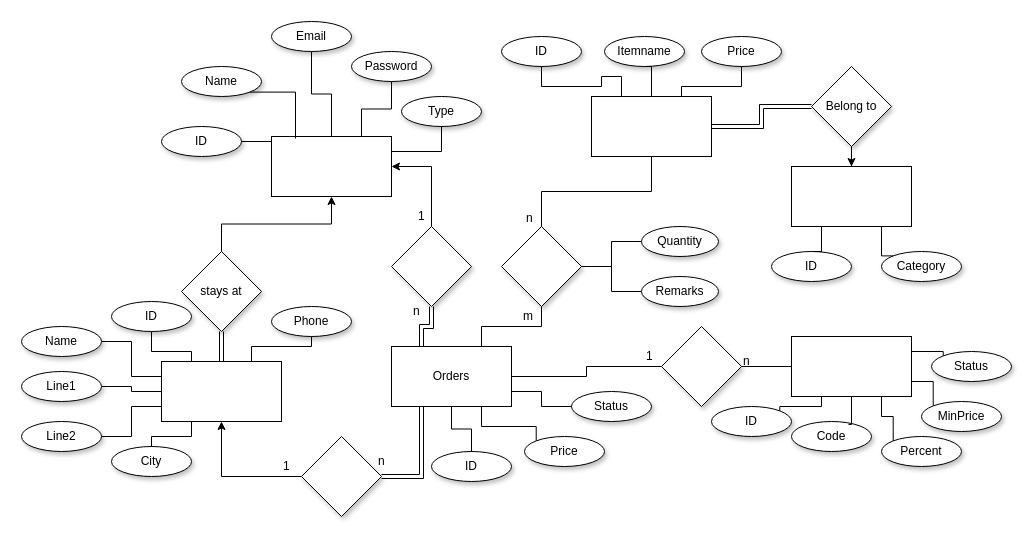
Image size: 1035x541. Some labels were removed from this diagram. Each missing label, with the centre of its shape:
"Address" goes at (221,391).
"apply for" goes at (702,368).
"Categories" goes at (851,196).
"Contains" goes at (542,268).
"Delivered to" goes at (342,478).
"Discount" goes at (851,366).
"FoodItems" goes at (651,126).
"places" goes at (432,268).
"User" goes at (331,166).
